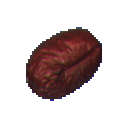ng: (21, 23, 107, 106)
